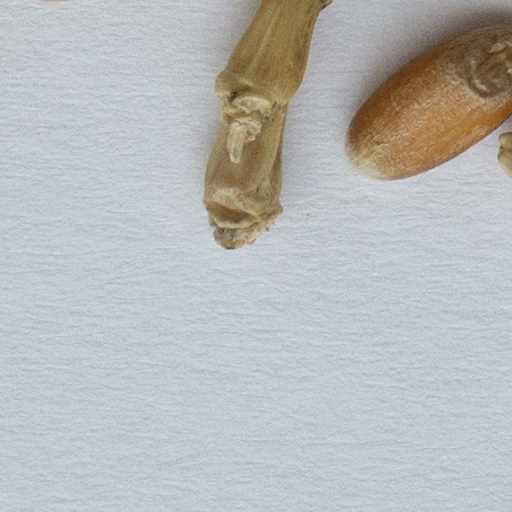Peel-poly: (205, 0, 326, 248)
